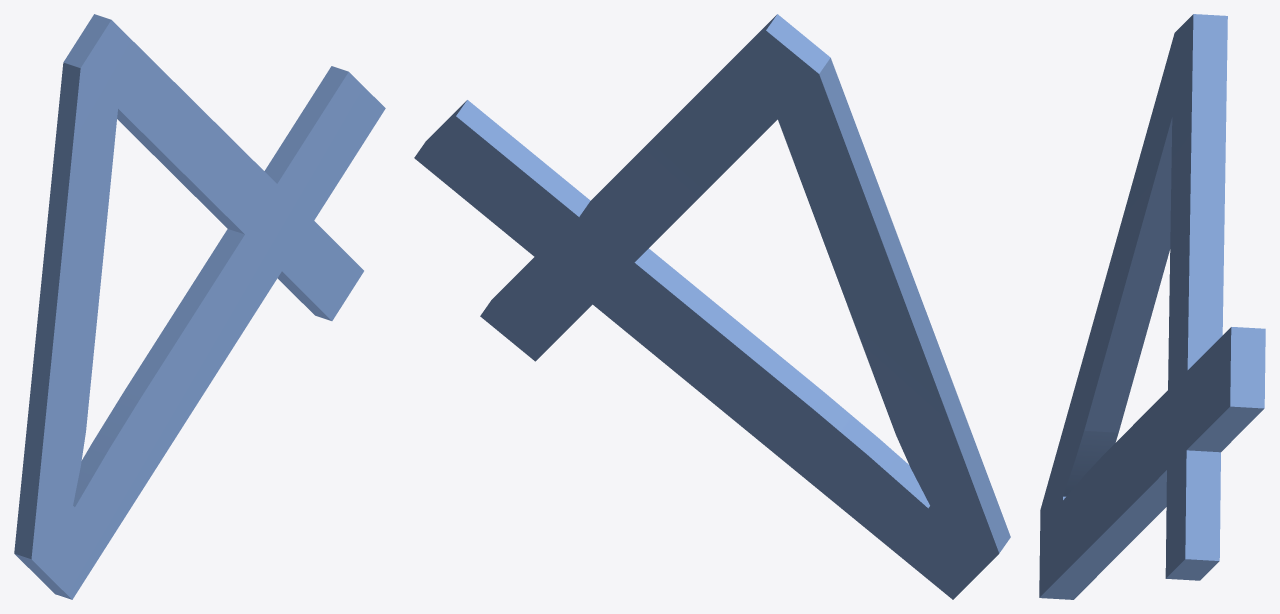
Rendered from New_Number_4.gltf.
The picture shows the model from 3 angles, left to right: view 1: azimuth 30°, elevation 25°; view 2: azimuth 150°, elevation 25°; view 3: azimuth 270°, elevation 25°; orthographic projection. The views are drawn at different scales.
Visible parts, largest first — view 1: Part 418; view 2: Part 418; view 3: Part 418.
Part boxes in pixels (box(x1,y1,x2,y2)): Part 418: box(14, 14, 385, 599); Part 418: box(414, 14, 1010, 599); Part 418: box(1039, 14, 1265, 599).
Bounding box in the file's own units: 0.00457 × 0.00518 × 0.00164.
